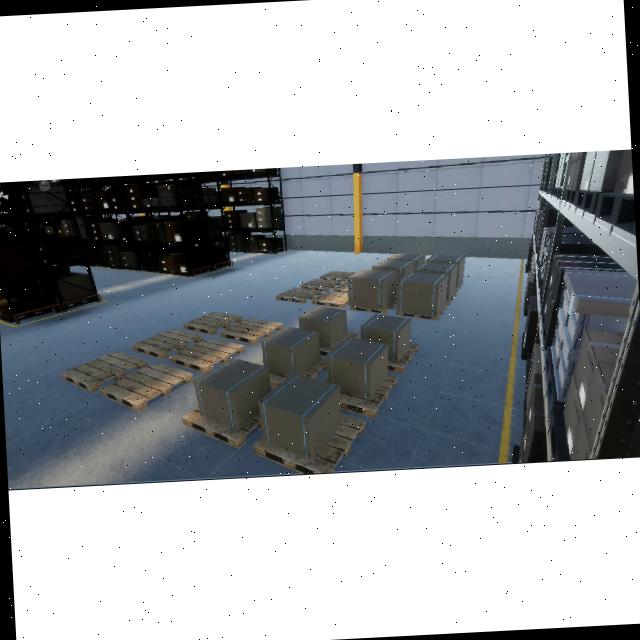wooden_pallet: (253, 413, 366, 475), (100, 362, 193, 411), (60, 349, 148, 393), (182, 406, 262, 449), (169, 337, 246, 374), (339, 374, 398, 418), (131, 329, 204, 360), (220, 317, 283, 345), (184, 311, 242, 335), (386, 343, 420, 374), (396, 304, 447, 320), (350, 299, 398, 315), (276, 287, 321, 303), (311, 291, 349, 308), (301, 278, 342, 291), (320, 270, 357, 283), (333, 282, 348, 293)
